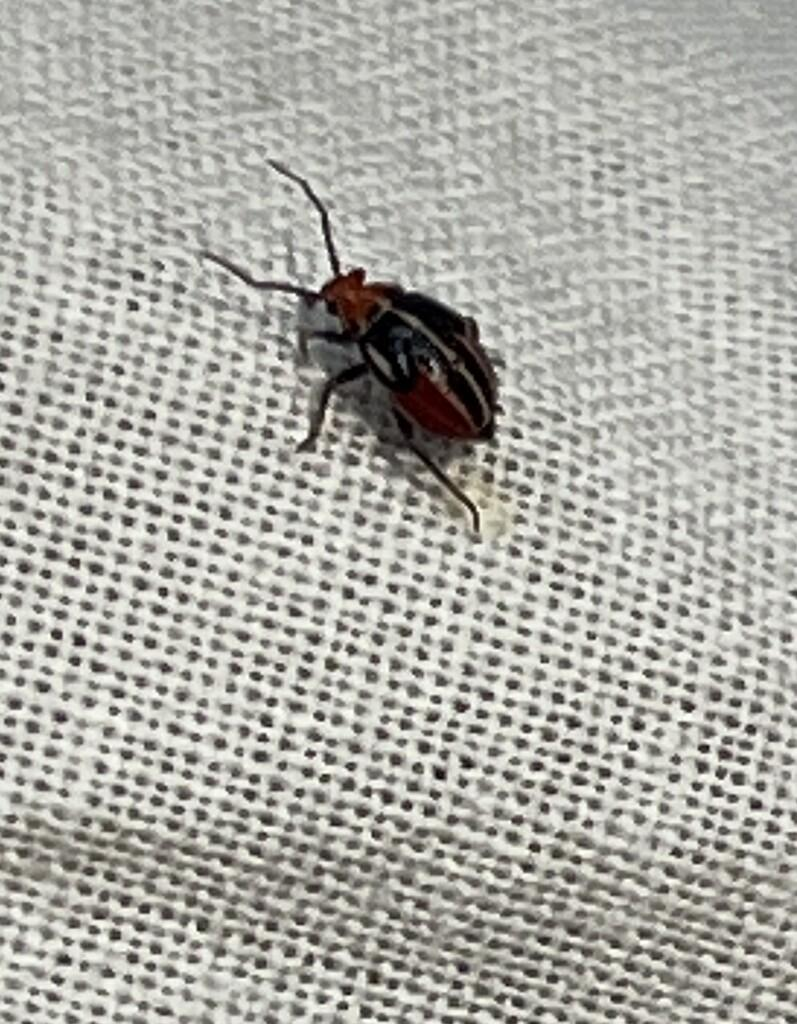plant_bugs: (159, 106, 590, 574)
